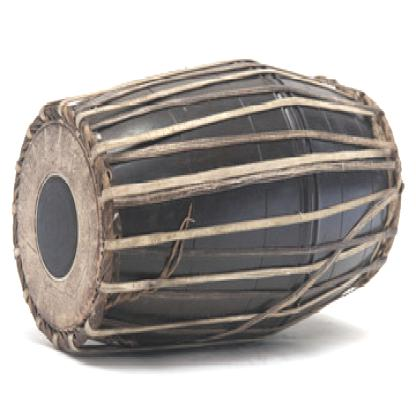Mridangam: (10, 36, 411, 382)
